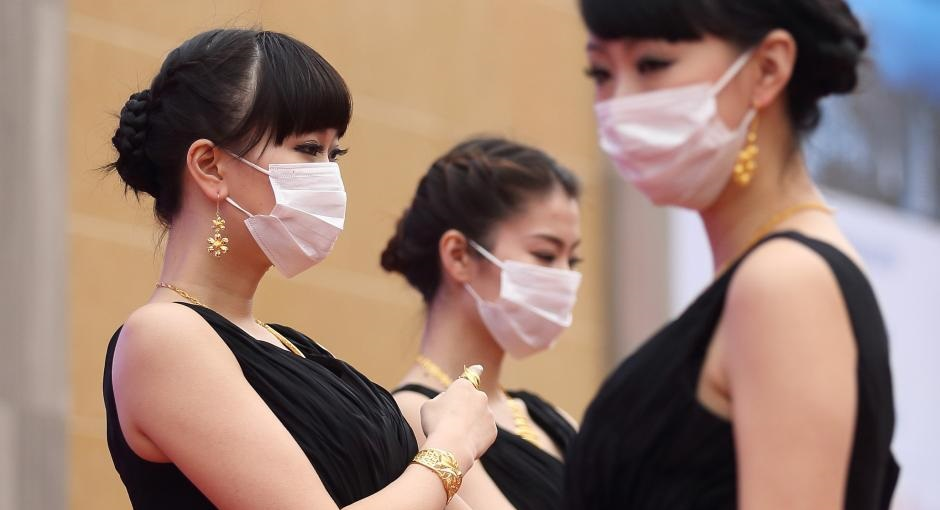face_mask: (585, 23, 729, 208), (249, 109, 344, 273), (502, 194, 583, 351)
